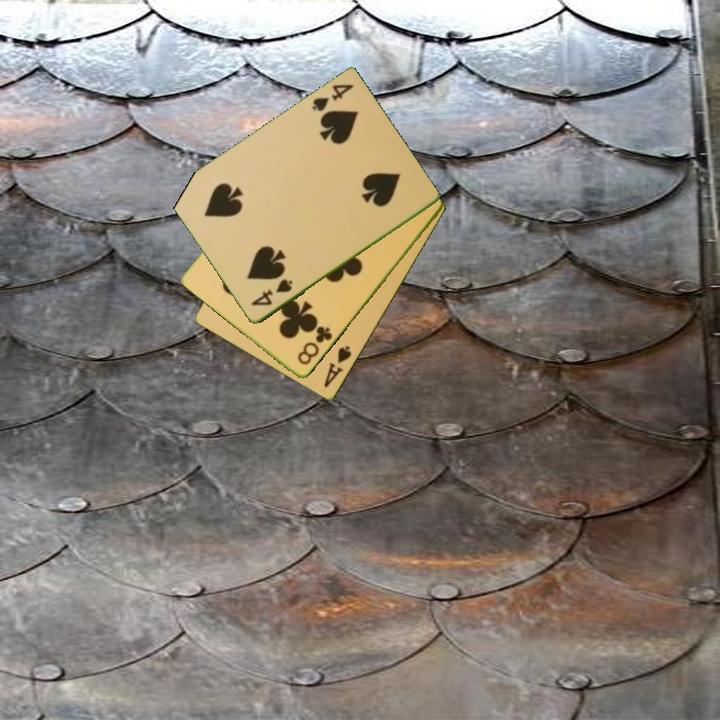4s: (308, 81, 357, 115), (247, 276, 296, 309)
8c: (294, 323, 335, 368)
As: (320, 342, 355, 391)
